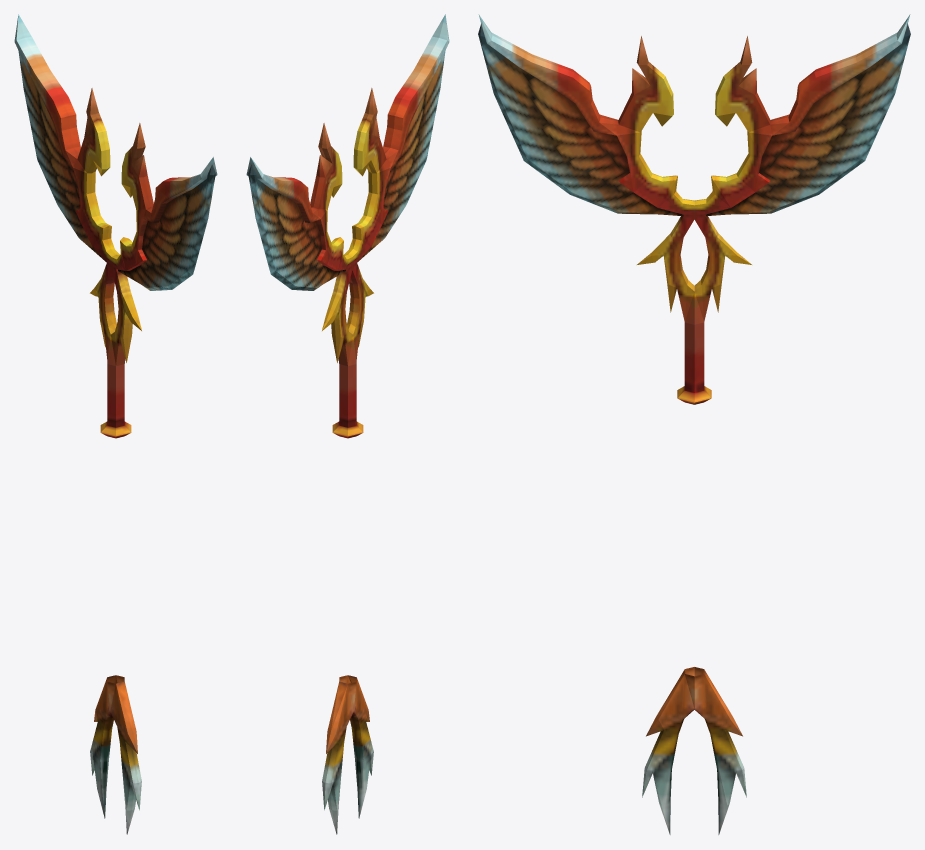
Rendered from Bat_flamingWand.obj.
3 views of the same model, side by side, from view 1: azimuth 30°, elevation 25°; view 2: azimuth 150°, elevation 25°; view 3: azimuth 270°, elevation 25° (orthographic). The views are drawn at different scales.
Parts seen in each view (by area): view 1: Bat_flamingWand_tri; view 2: Bat_flamingWand_tri; view 3: Bat_flamingWand_tri.
Boxes of the visible parts, x1=… form: Bat_flamingWand_tri: x1=14, y1=14, x2=217, y2=834; Bat_flamingWand_tri: x1=246, y1=14, x2=449, y2=834; Bat_flamingWand_tri: x1=478, y1=14, x2=910, y2=834.
Bounding box in the file's own units: 0.0485 × 1.11 × 0.5307.
Materials: 1 (1 with a texture image).
